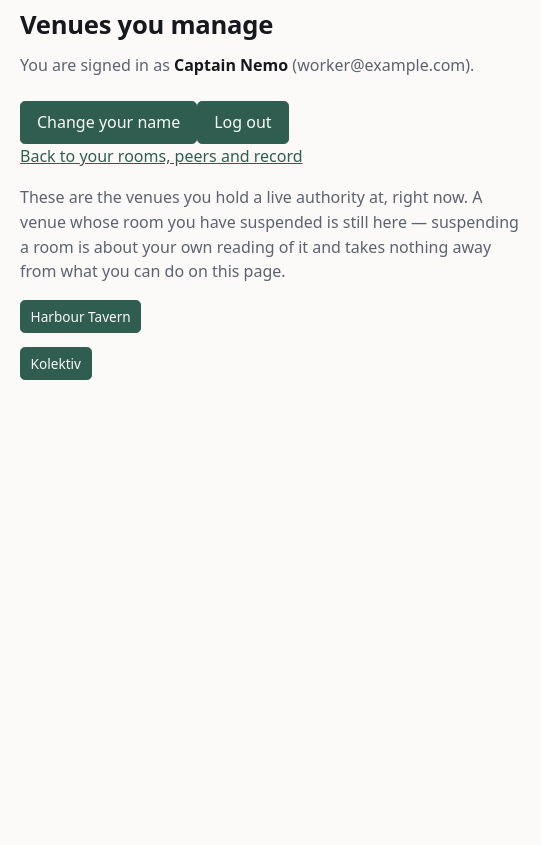
Test: the venue picker › loads the chosen venue's people
The image size is (541, 845).
Click the button "Harbour Tavern": (81, 317) x1=20 y1=300 x2=141 y2=333
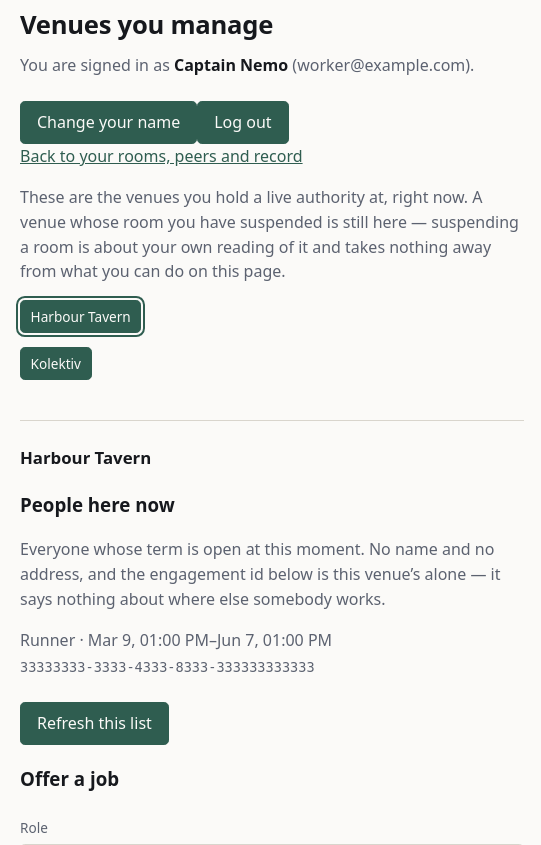
Expected: the list named "people here now" shows "Runner", x1=20 y1=629 x2=332 y2=651
